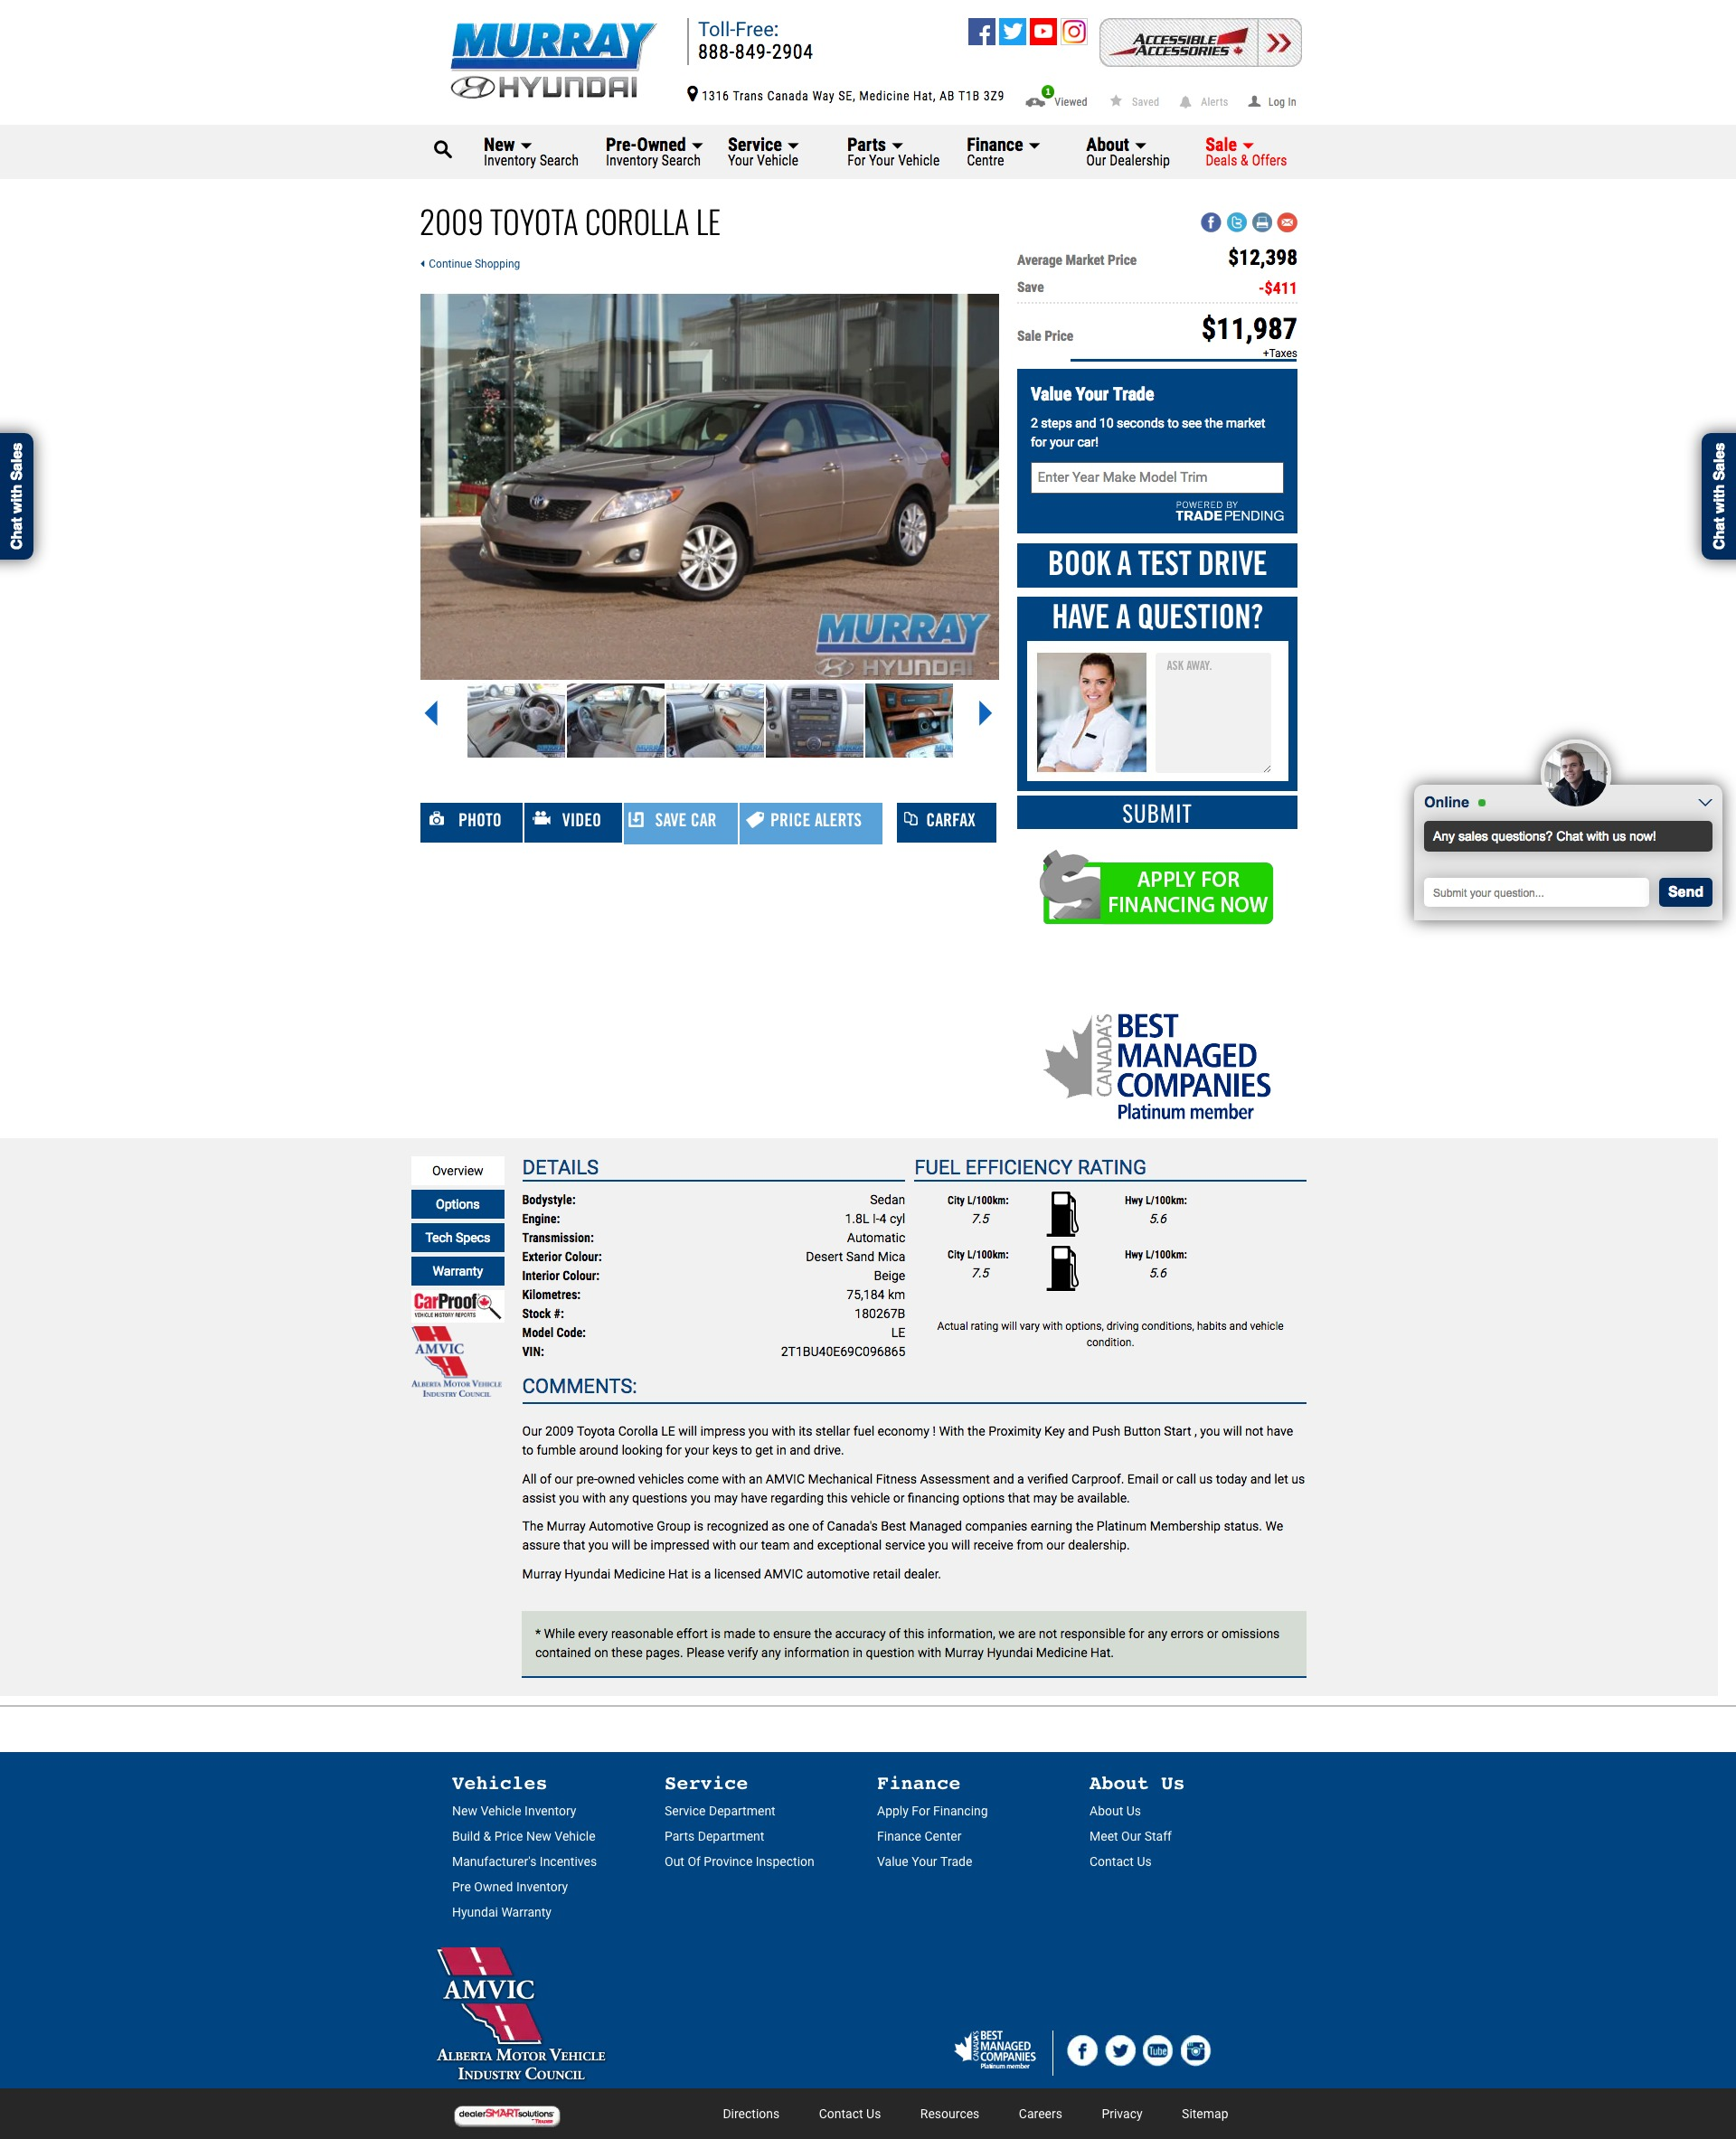car: (978, 701, 994, 728)
